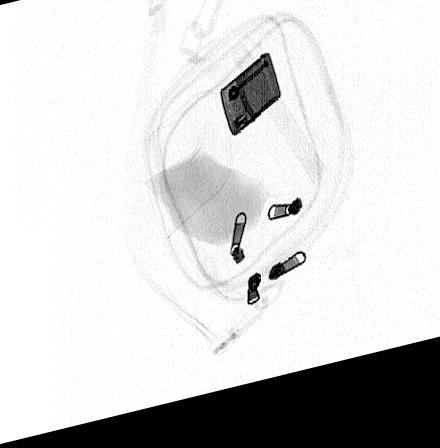Lighter: (221, 65, 281, 148)
